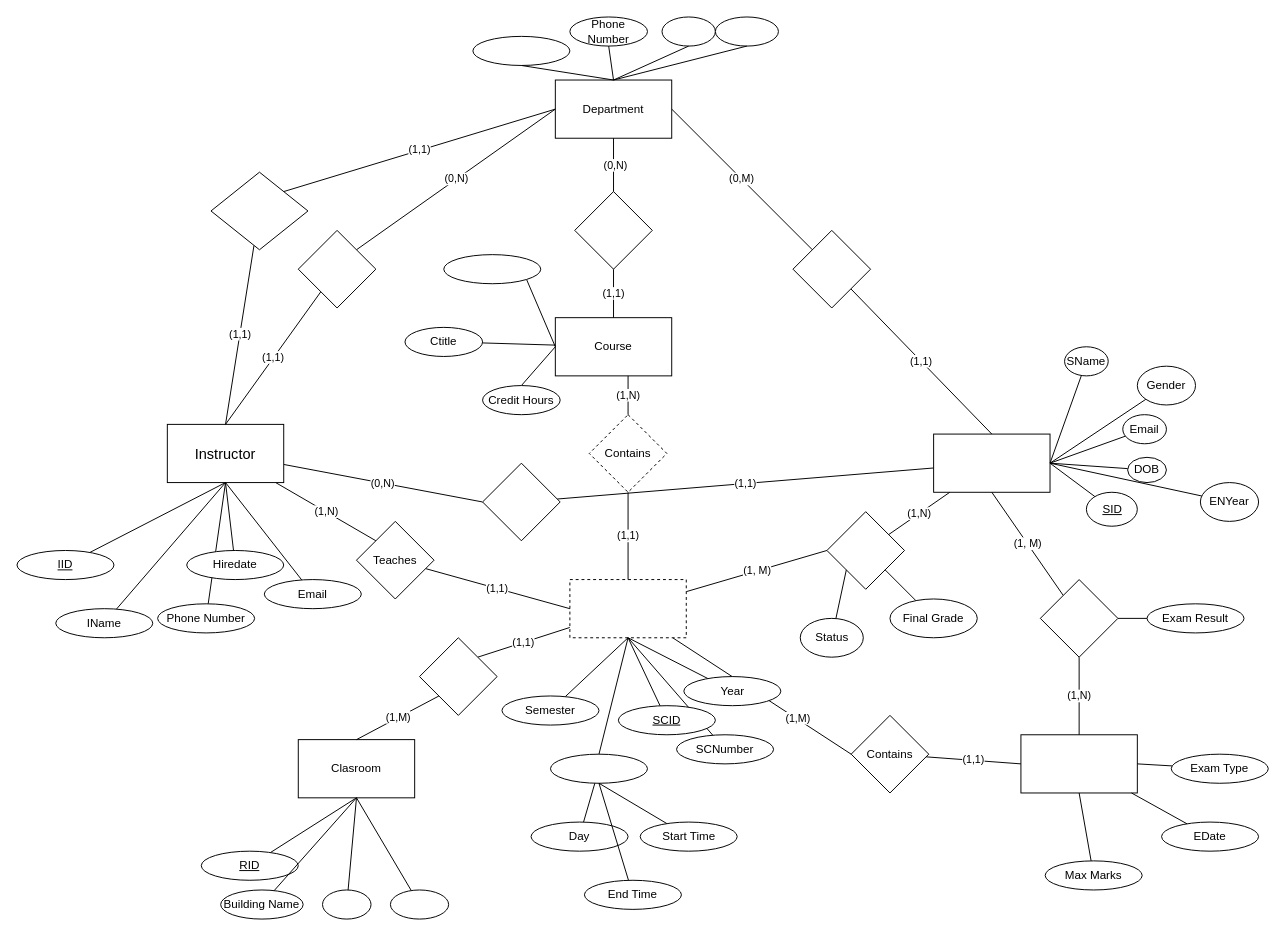
Image size: 1285x936. Some labels were removed from this diagram. The centre of each missing label's shape, as x and y in pixels:
Assigned: pixel 458 676
Capacity: pixel 419 904
CID: pixel 492 269
Course Section: pixel 627 608
DID: pixel 521 50
DName: pixel 688 31
Enrolled: pixel 865 550
Enrolled By: pixel 831 268
Exam: pixel 1078 763
Has: pixel 336 268
Location: pixel 746 31
Managed By: pixel 259 210
Offers: pixel 613 230
RNum: pixel 346 904
Schedule: pixel 598 768
Scored: pixel 1078 618
Student: pixel 991 462
Supervises: pixel 521 501
